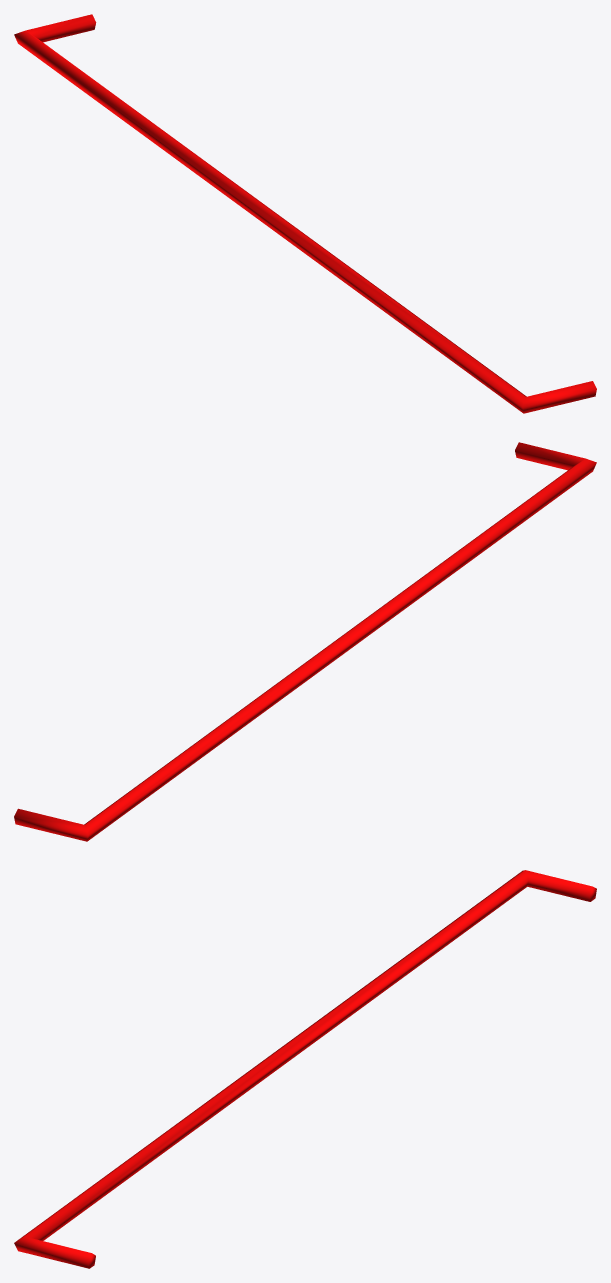
File: original-54.obj
The picture shows the model from 3 angles, top to bottom: view 1: azimuth 30°, elevation 25°; view 2: azimuth 150°, elevation 25°; view 3: azimuth 330°, elevation 25°; orthographic projection.
Parts seen in each view (by area): view 1: Component_28_1/Component_28/mesh28/mesh28-geometry#mesh28-geomet; view 2: Component_28_1/Component_28/mesh28/mesh28-geometry#mesh28-geomet; view 3: Component_28_1/Component_28/mesh28/mesh28-geometry#mesh28-geomet.
Part boxes in pixels (x1,y1,x2,y2): Component_28_1/Component_28/mesh28/mesh28-geometry#mesh28-geomet: [14, 14, 596, 413]; Component_28_1/Component_28/mesh28/mesh28-geometry#mesh28-geomet: [14, 442, 596, 841]; Component_28_1/Component_28/mesh28/mesh28-geometry#mesh28-geomet: [14, 870, 596, 1268].
Bounding box in the file's own units: 0.0382 × 0.00687 × 0.453.
